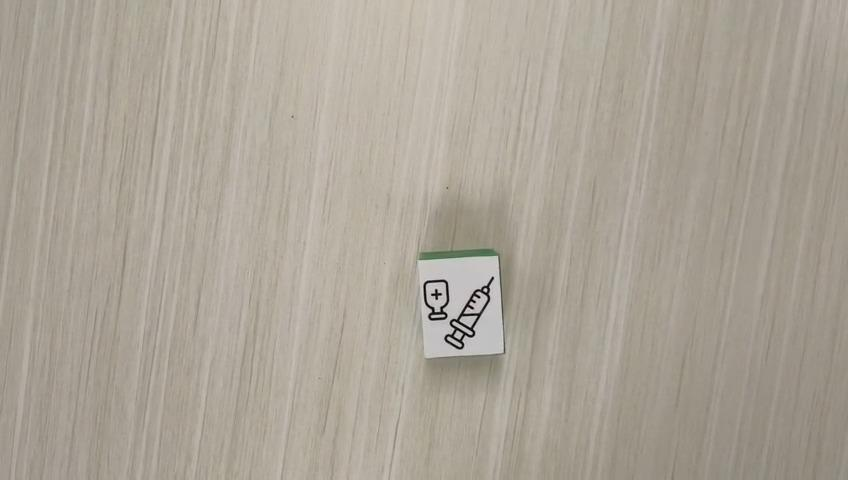antiseptic cream: (416, 247, 505, 359)
